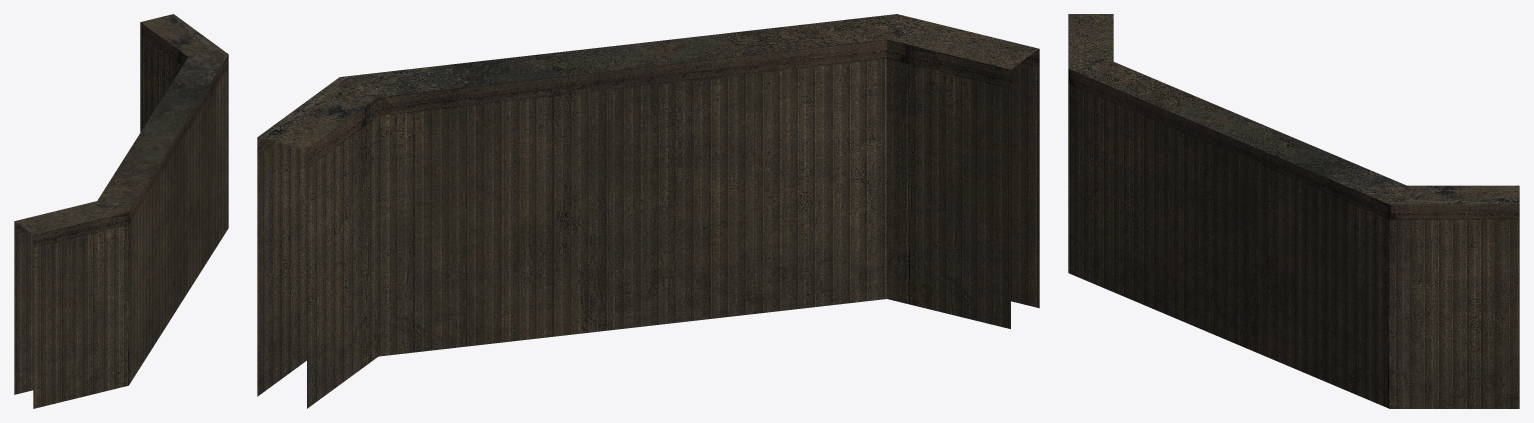
Rendered from wall_rx_1_m1a_1_2_3_height.glb.
3 renders of one model, left to right at view 1: azimuth 30°, elevation 25°; view 2: azimuth 150°, elevation 25°; view 3: azimuth 270°, elevation 25°, orthographic. The views are drawn at different scales.
Visible parts, largest first — view 1: wall_rx_1_m1a_1_2/3_height; view 2: wall_rx_1_m1a_1_2/3_height; view 3: wall_rx_1_m1a_1_2/3_height.
Part boxes in pixels (x1=…): wall_rx_1_m1a_1_2/3_height: x1=14, y1=14, x2=228, y2=408; wall_rx_1_m1a_1_2/3_height: x1=257, y1=14, x2=1039, y2=408; wall_rx_1_m1a_1_2/3_height: x1=1068, y1=14, x2=1519, y2=408.
Bounding box in the file's own units: 4 × 2 × 4.
Materials: 2 (2 with a texture image).
